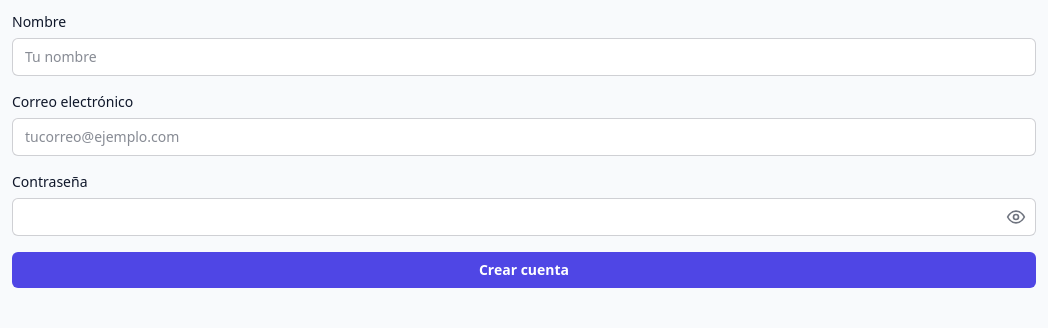
FormularioRegistro › con una contraseña corta muestra el mensaje de contraseña corta
Type "Ana Pérez" into the field labelled "Nombre".
click(524, 57); type("Ana Pérez")  # box [12,38,1036,76]
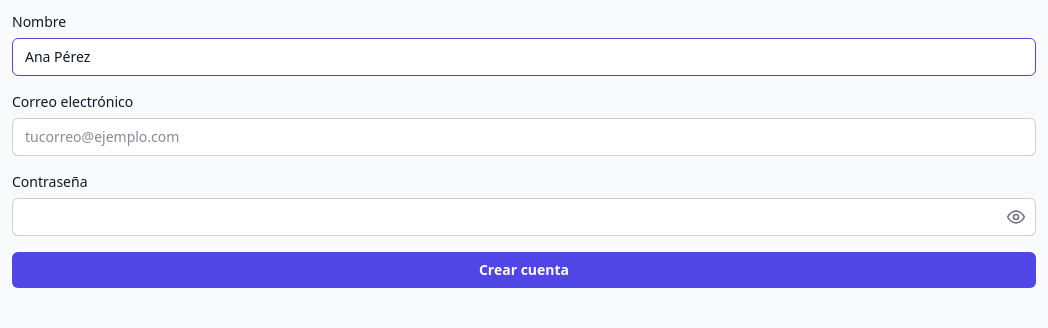
Type "ana@ejemplo.com" into the field labelled "Correo electrónico".
click(524, 137); type("ana@ejemplo.com")  # box [12,118,1036,156]
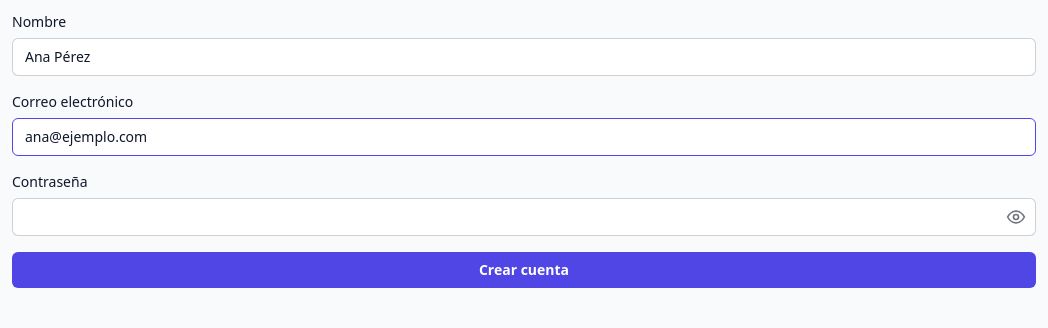
Type "1234567" into the password field labelled "Contraseña".
click(524, 217); type("1234567")  # box [12,198,1036,236]
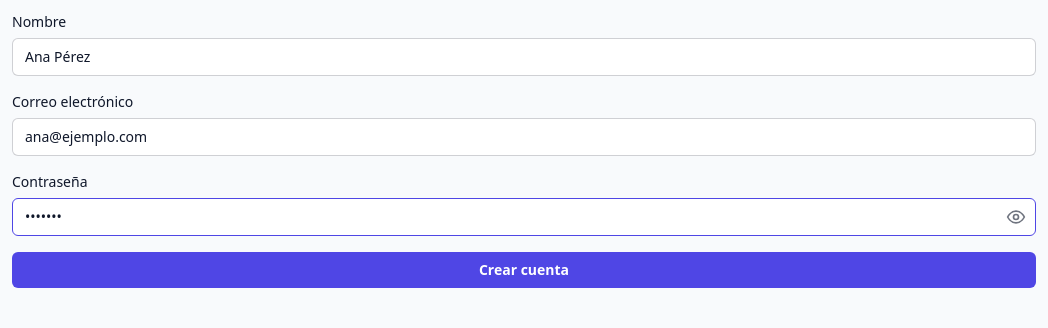
Click the button "Crear cuenta".
click(524, 270)  # box [12,252,1036,288]
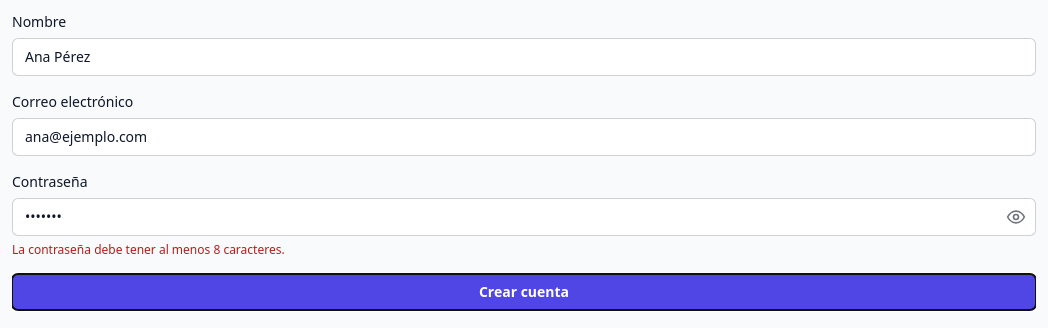
Check: the text "La contraseña debe tener al menos 8 caracteres." is shown, box [12,241,285,258]
